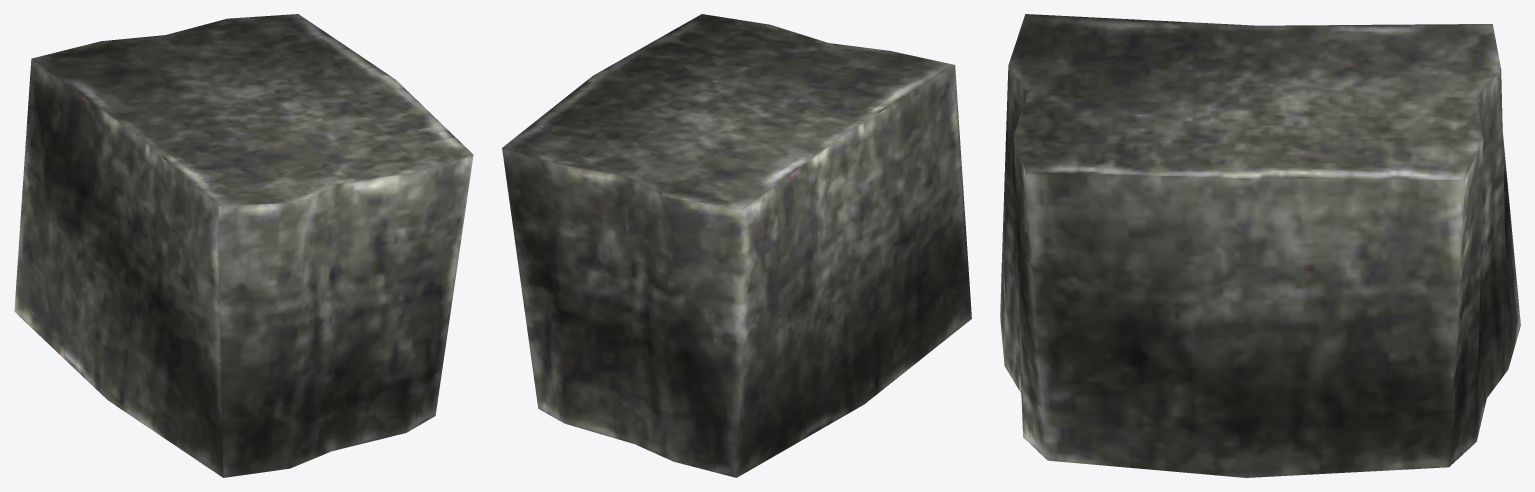
File: Stones_7.fbx
3 views of the same model, side by side, from view 1: azimuth 30°, elevation 25°; view 2: azimuth 150°, elevation 25°; view 3: azimuth 270°, elevation 25° (orthographic). The views are drawn at different scales.
Parts seen in each view (by area): view 1: Stones_7; view 2: Stones_7; view 3: Stones_7.
Part boxes in pixels (left/top/right/bottom): Stones_7: left=14, top=14, right=473, bottom=477; Stones_7: left=502, top=14, right=971, bottom=477; Stones_7: left=1000, top=14, right=1520, bottom=477.
Bounding box in the file's own units: 75.04 × 69.45 × 103.
